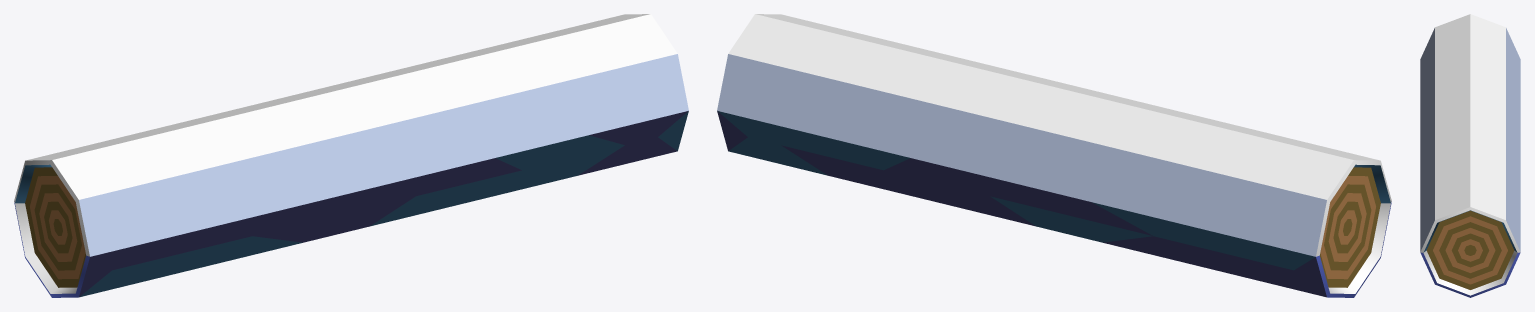
Rendered from mesh_Log_Snowy.fbx.
3 renders of one model, left to right at view 1: azimuth 30°, elevation 25°; view 2: azimuth 150°, elevation 25°; view 3: azimuth 270°, elevation 25°, orthographic. The views are drawn at different scales.
Visible parts, largest first — view 1: pCylinder1; view 2: pCylinder1; view 3: pCylinder1.
Part boxes in pixels (x1,y1,x2,y2): pCylinder1: (14,14,688,297); pCylinder1: (717,14,1391,297); pCylinder1: (1420,14,1520,297).
Size of the model in its own units: 2.84 by 0.6223 by 0.6223.
1 material, 1 textured.
